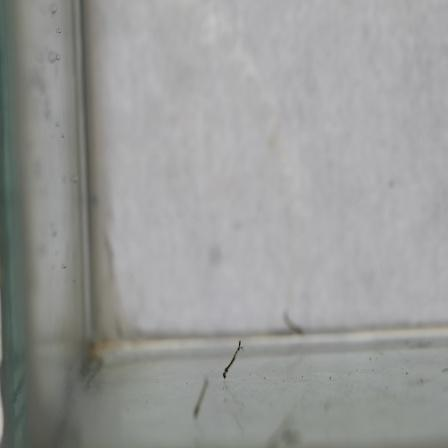Jentik-Nyamuk: (218, 337, 246, 381)
